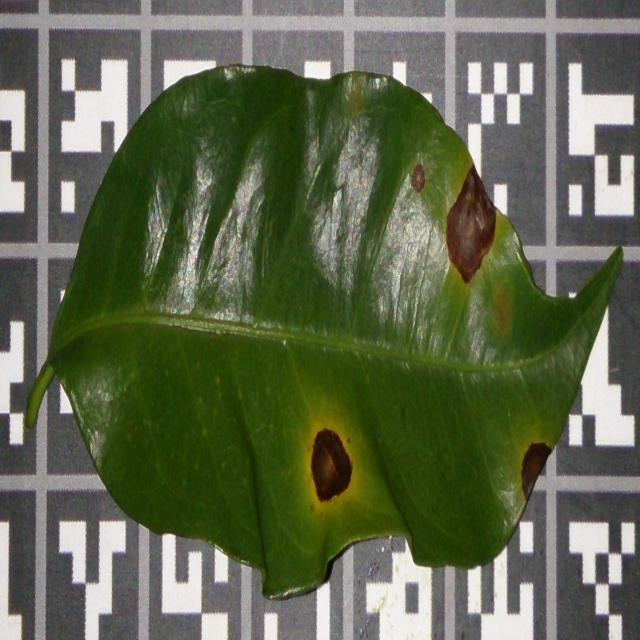Enfermedad-Mancha-de-hierro: (23, 65, 624, 602)
